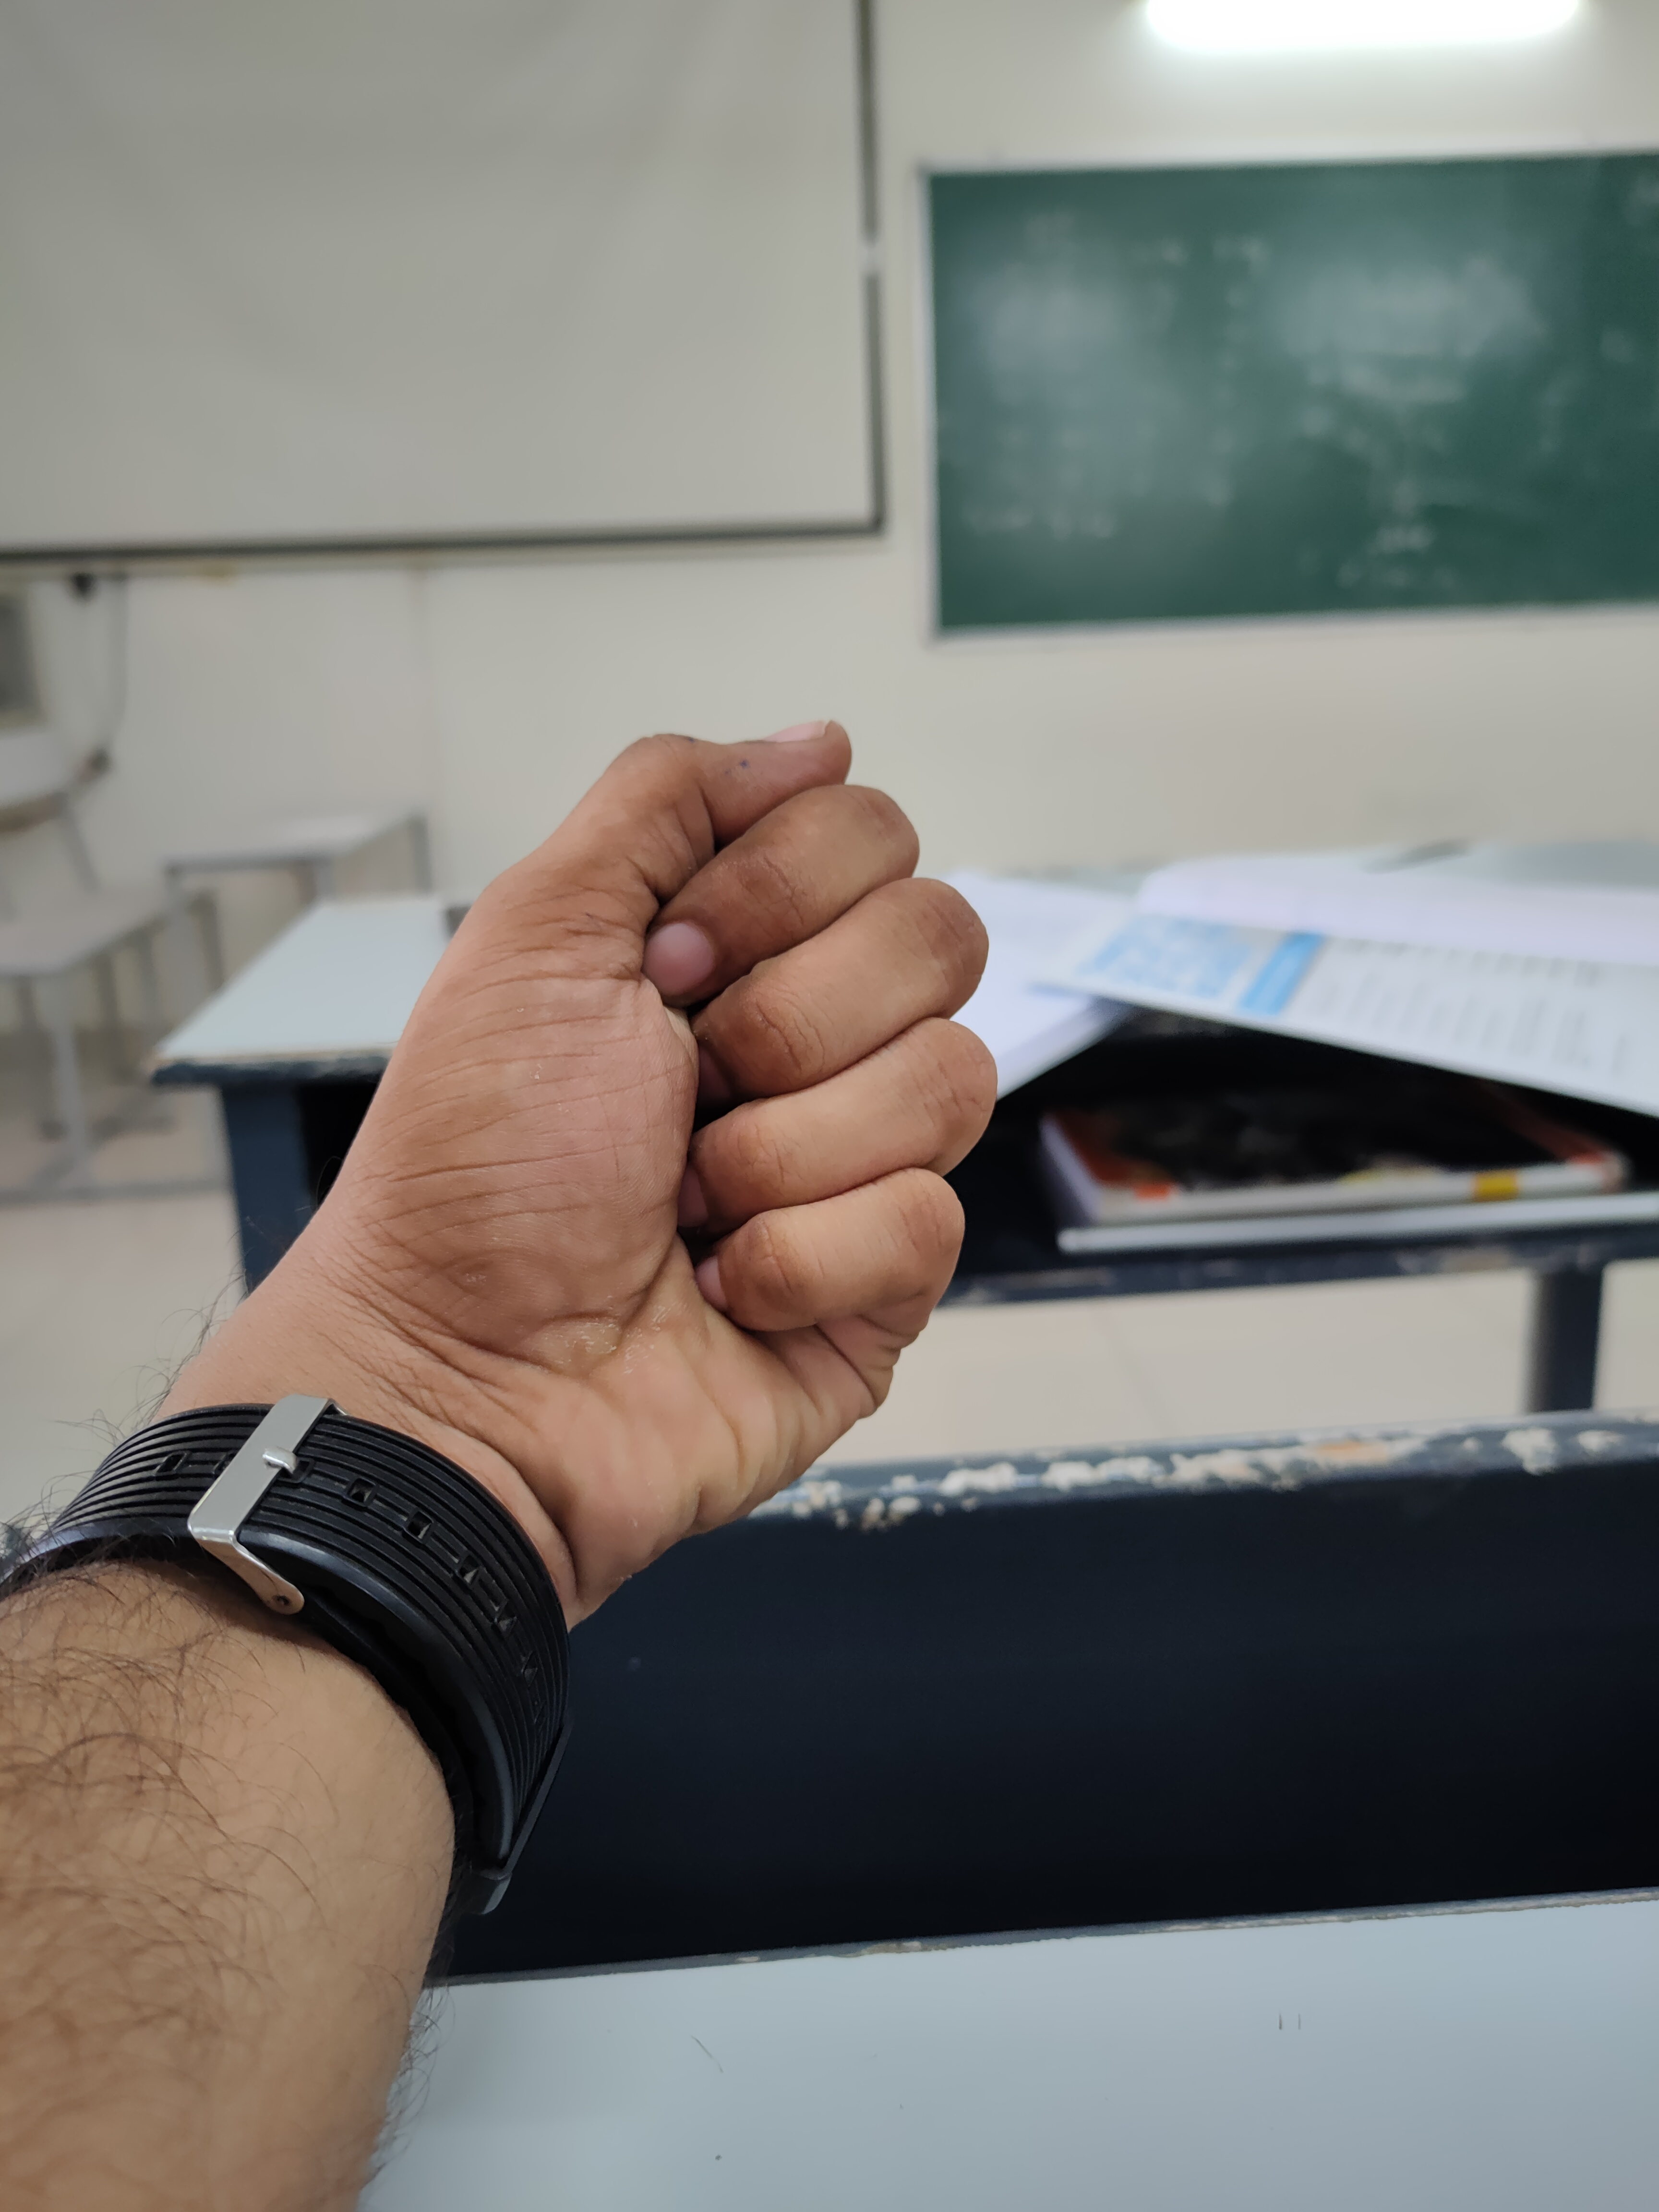A: (204, 712, 1075, 1629)
